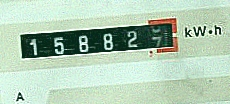1: (26, 35, 39, 55)
2: (125, 28, 138, 47)
5: (51, 34, 64, 54)
7: (150, 33, 162, 48)
8: (76, 31, 89, 53), (101, 30, 114, 52)
screen: (10, 11, 188, 67)
